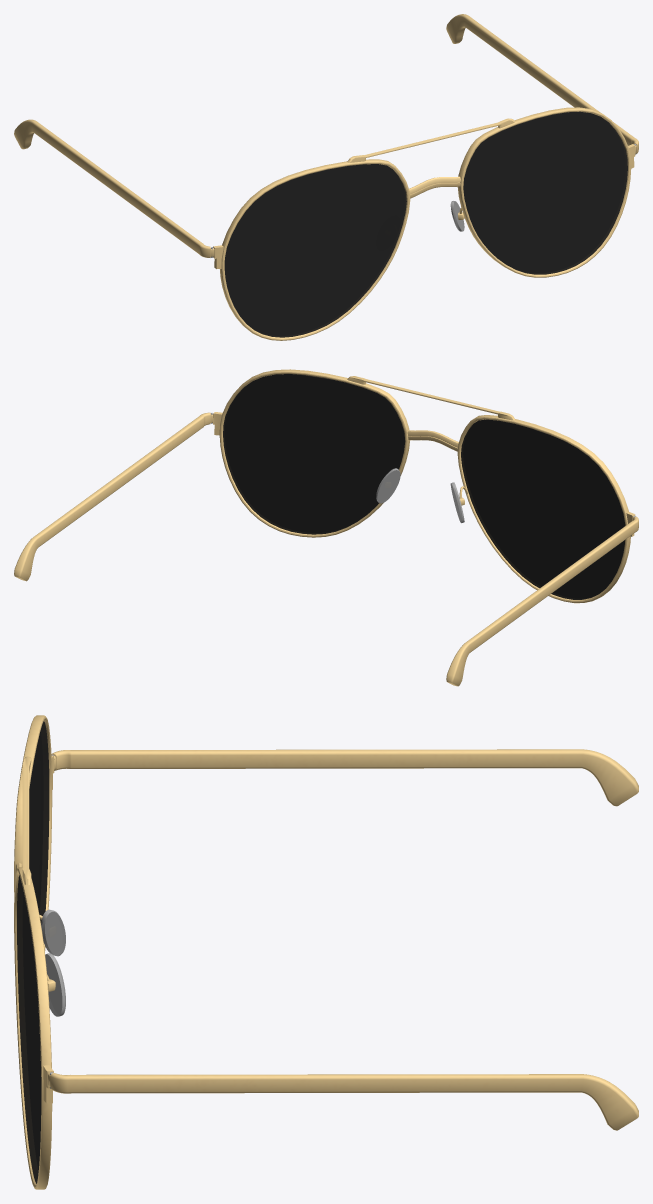
The model's file is glasses2.glb.
3 renders of one model, top to bottom at view 1: azimuth 30°, elevation 25°; view 2: azimuth 150°, elevation 25°; view 3: azimuth 270°, elevation 25°, orthographic. The views are drawn at different scales.
Parts seen in each view (by area): view 1: Plane; view 2: Plane; view 3: Plane.
Boxes of the visible parts, <box> form: Plane: <box>14,14,638,340</box>; Plane: <box>14,369,638,686</box>; Plane: <box>14,715,638,1189</box>.
Size of the model in its own units: 2.03 by 0.7472 by 1.62.
Materials: 1 (1 with a texture image).
